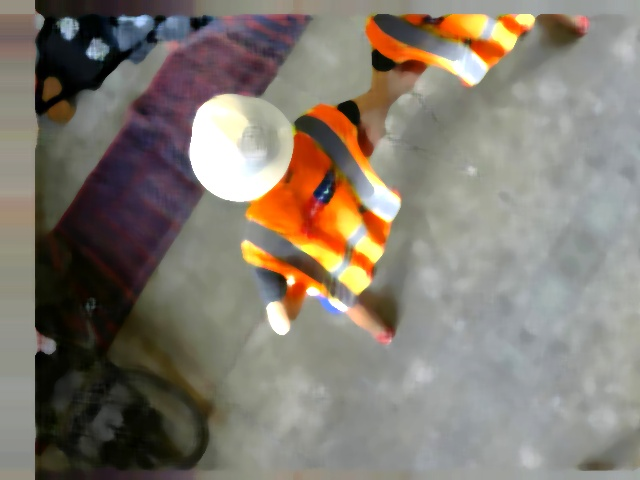three: (231, 116, 278, 169)
